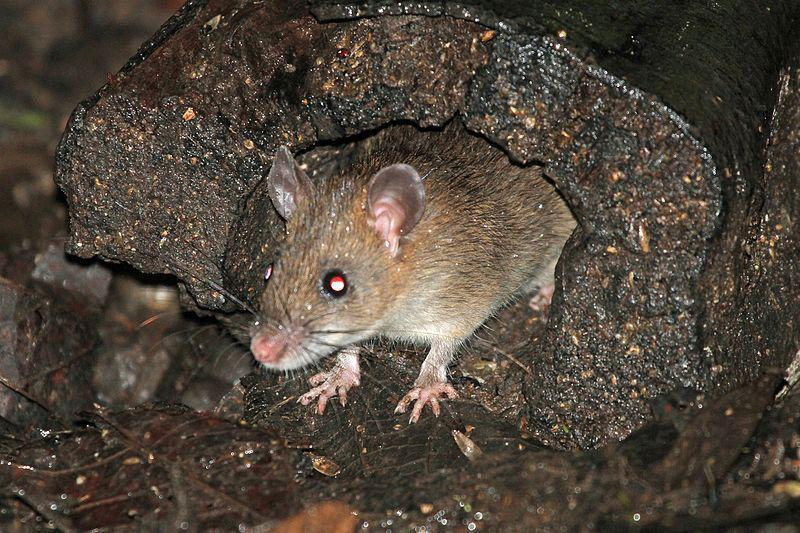rat: (251, 126, 578, 420)
